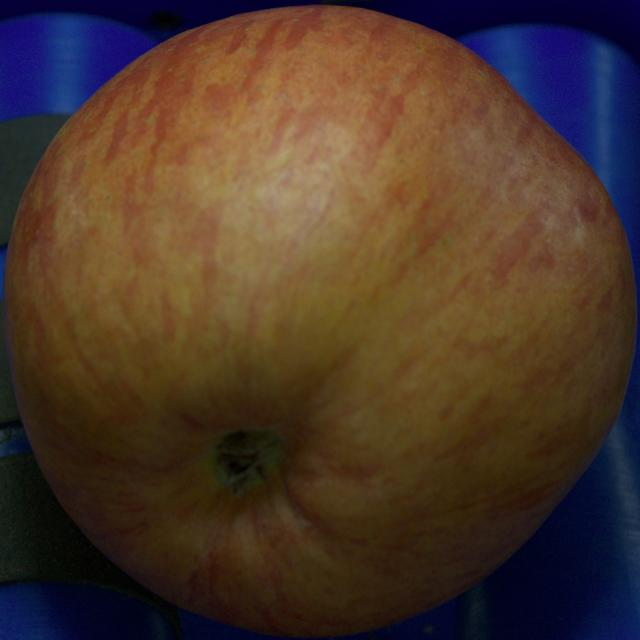apple: (4, 6, 636, 635)
